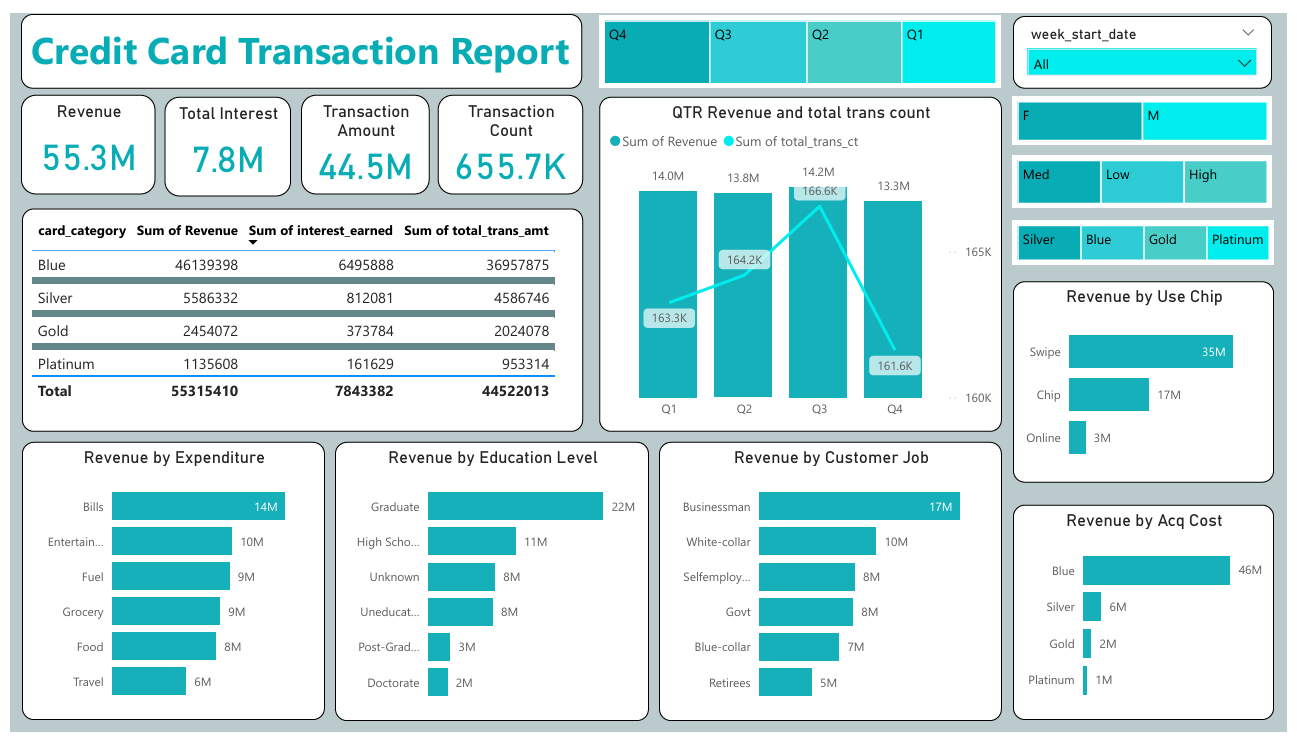

What the dashboard file says about the page in this screenshot:
{"tool":"powerbi","page":{"name":"Credit Card Transaction","canvas":[1280,720],"ordinal":0},"visuals":[{"type":"textbox","box":[10,0,563.3,75],"z":0},{"type":"lineStackedColumnComboChart","title":"QTR Revenue and total trans count","fields":{"Category":["public cc_detail.qtr"],"Y":["Sum(public cc_detail.Revenue)"],"Y2":["Sum(public cc_detail.total_trans_ct)"]},"box":[590,82.5,403.8,336.2],"z":1000},{"type":"barChart","title":"Revenue by Expenditure","fields":{"Y":["Sum(public cc_detail.Revenue)"],"Category":["public cc_detail.exp_type"]},"box":[11.2,428.8,303.8,278.8],"z":2000},{"type":"barChart","title":"Revenue by Education Level","fields":{"Y":["Sum(public cc_detail.Revenue)"],"Category":["public cust_detail.education_level"]},"box":[325,428.8,315,280],"z":3000},{"type":"barChart","title":"Revenue by Customer Job","fields":{"Y":["Sum(public cc_detail.Revenue)"],"Category":["public cust_detail.customer_job"]},"box":[650,428.8,343.8,280],"z":4000},{"type":"barChart","title":"Revenue by Acq Cost","fields":{"Category":["public cc_detail.card_category"],"Y":["Sum(public cc_detail.Revenue)"]},"box":[1005,491.7,261.7,216.7],"z":5000},{"type":"barChart","title":"Revenue by Use Chip","fields":{"Category":["public cc_detail.use_chip"],"Y":["Sum(public cc_detail.Revenue)"]},"box":[1005,268.3,261.7,201.7],"z":6000},{"type":"tableEx","fields":{"Values":["public cc_detail.card_category","Sum(public cc_detail.Revenue)","Sum(public cc_detail.interest_earned)","Sum(public cc_detail.total_trans_amt)"]},"box":[11.2,195,562.5,223.8],"z":7000},{"type":"card","title":"Revenue","fields":{"Values":["Sum(public cc_detail.Revenue)"]},"box":[10,81.2,135,100],"z":8000},{"type":"card","title":"Total Interest","fields":{"Values":["Sum(public cc_detail.interest_earned)"]},"box":[153.8,82.5,127.5,100],"z":9000},{"type":"card","title":"Transaction Amount","fields":{"Values":["Sum(public cc_detail.total_trans_amt)"]},"box":[291.2,81.2,128.8,100],"z":10000},{"type":"card","title":"Transaction Count","fields":{"Values":["Sum(public cc_detail.total_trans_ct)"]},"box":[427.5,81.2,146.2,100],"z":11000},{"type":"slicer","fields":{"Values":["public cc_detail.week_start_date"]},"box":[1005,1.7,260,73.3],"z":12000},{"type":"treemap","fields":{"Group":["public cc_detail.qtr"],"Values":["Avg(public cc_detail.client_num)"]},"box":[590,1.7,403.3,73.3],"z":13000},{"type":"treemap","fields":{"Group":["public cust_detail.gender"],"Values":["Avg(public cc_detail.client_num)"]},"box":[1005,83.3,260,48.3],"z":14000},{"type":"treemap","fields":{"Group":["public cc_detail.card_category"],"Values":["Avg(public cc_detail.client_num)"]},"box":[1005,206.7,261.7,45],"z":15000},{"type":"treemap","fields":{"Group":["public cust_detail.IncomeGroup","public cc_detail.card_category"],"Values":["Avg(public cc_detail.client_num)"]},"box":[1005,141.7,260,53.3],"z":16000}]}

Visuals, with their boxes in screenshot pixels (x1, y1, x2, y2), scaled from the page's 1280x720 canvas onto the 1297x747 screenshot:
textbox: bbox(10, 0, 581, 78)
"QTR Revenue and total trans count" lineStackedColumnComboChart: bbox(598, 86, 1007, 434)
"Revenue by Expenditure" barChart: bbox(11, 445, 319, 734)
"Revenue by Education Level" barChart: bbox(329, 445, 648, 735)
"Revenue by Customer Job" barChart: bbox(659, 445, 1007, 735)
"Revenue by Acq Cost" barChart: bbox(1018, 510, 1284, 735)
"Revenue by Use Chip" barChart: bbox(1018, 278, 1284, 488)
tableEx - public cc_detail.card_category x Sum(public cc_detail.Revenue): bbox(11, 202, 581, 435)
"Revenue" card: bbox(10, 84, 147, 188)
"Total Interest" card: bbox(156, 86, 285, 189)
"Transaction Amount" card: bbox(295, 84, 426, 188)
"Transaction Count" card: bbox(433, 84, 581, 188)
slicer - public cc_detail.week_start_date: bbox(1018, 2, 1282, 78)
treemap - public cc_detail.qtr x Avg(public cc_detail.client_num): bbox(598, 2, 1006, 78)
treemap - public cust_detail.gender x Avg(public cc_detail.client_num): bbox(1018, 86, 1282, 137)
treemap - public cc_detail.card_category x Avg(public cc_detail.client_num): bbox(1018, 214, 1284, 261)
treemap - public cust_detail.IncomeGroup x public cc_detail.card_category: bbox(1018, 147, 1282, 202)
